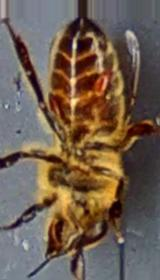varroa_mite: (82, 64, 118, 104)
